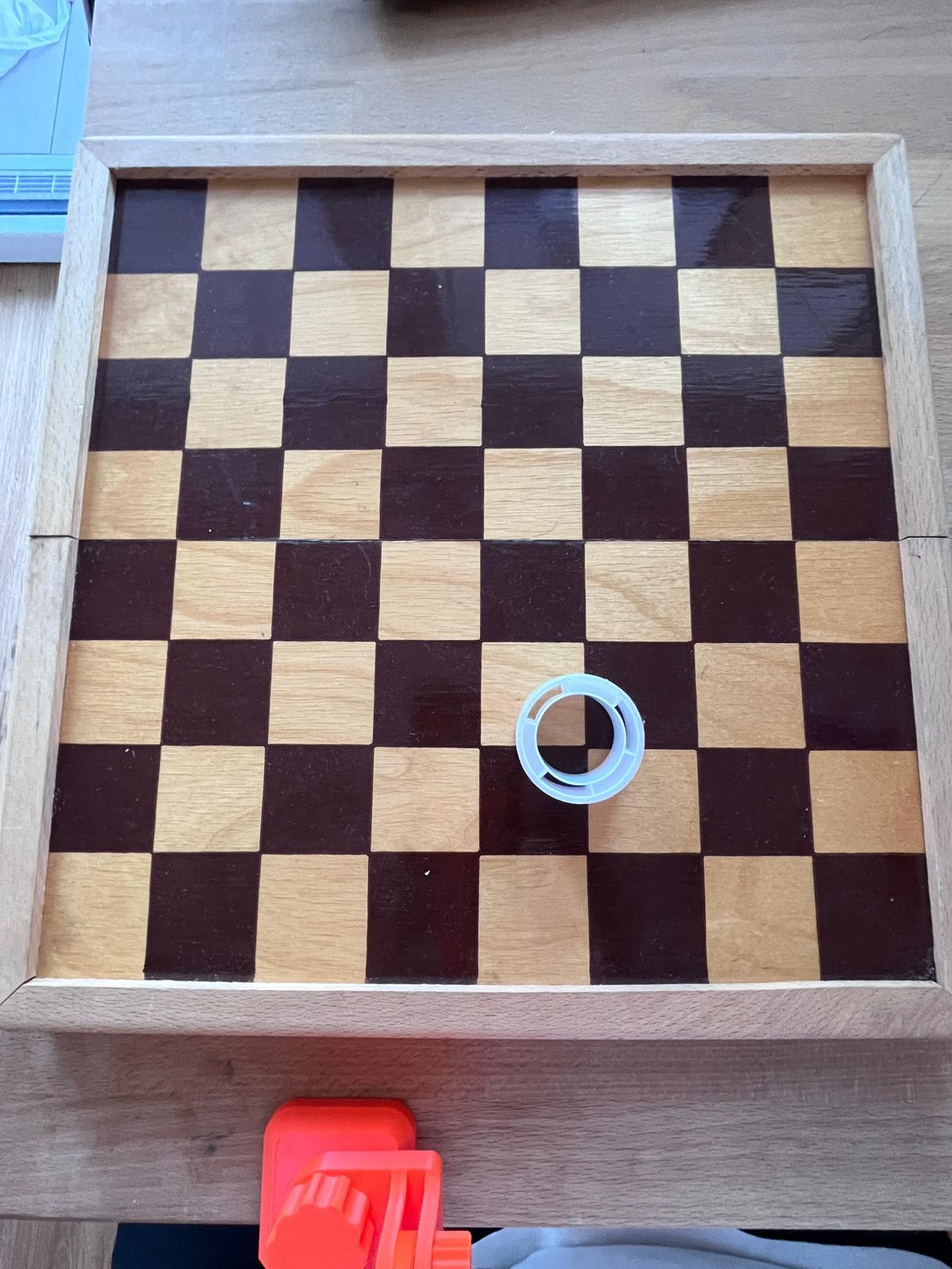tape: (519, 671, 644, 804)
